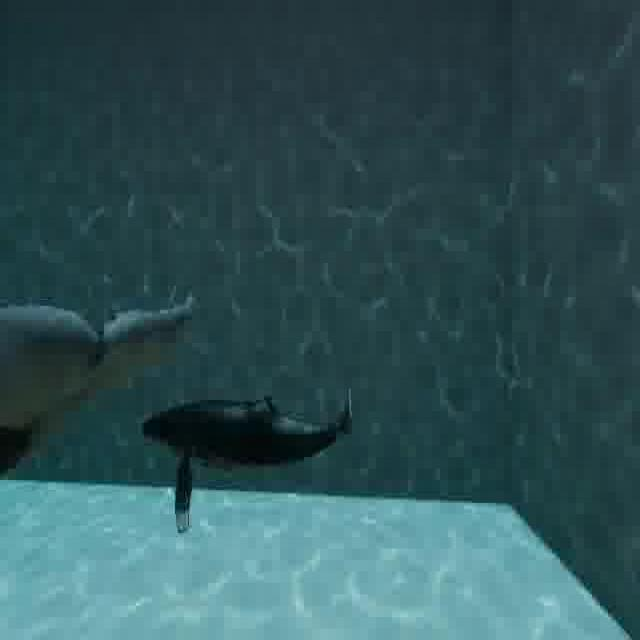Whale: (0, 247, 196, 479), (134, 361, 362, 536)
